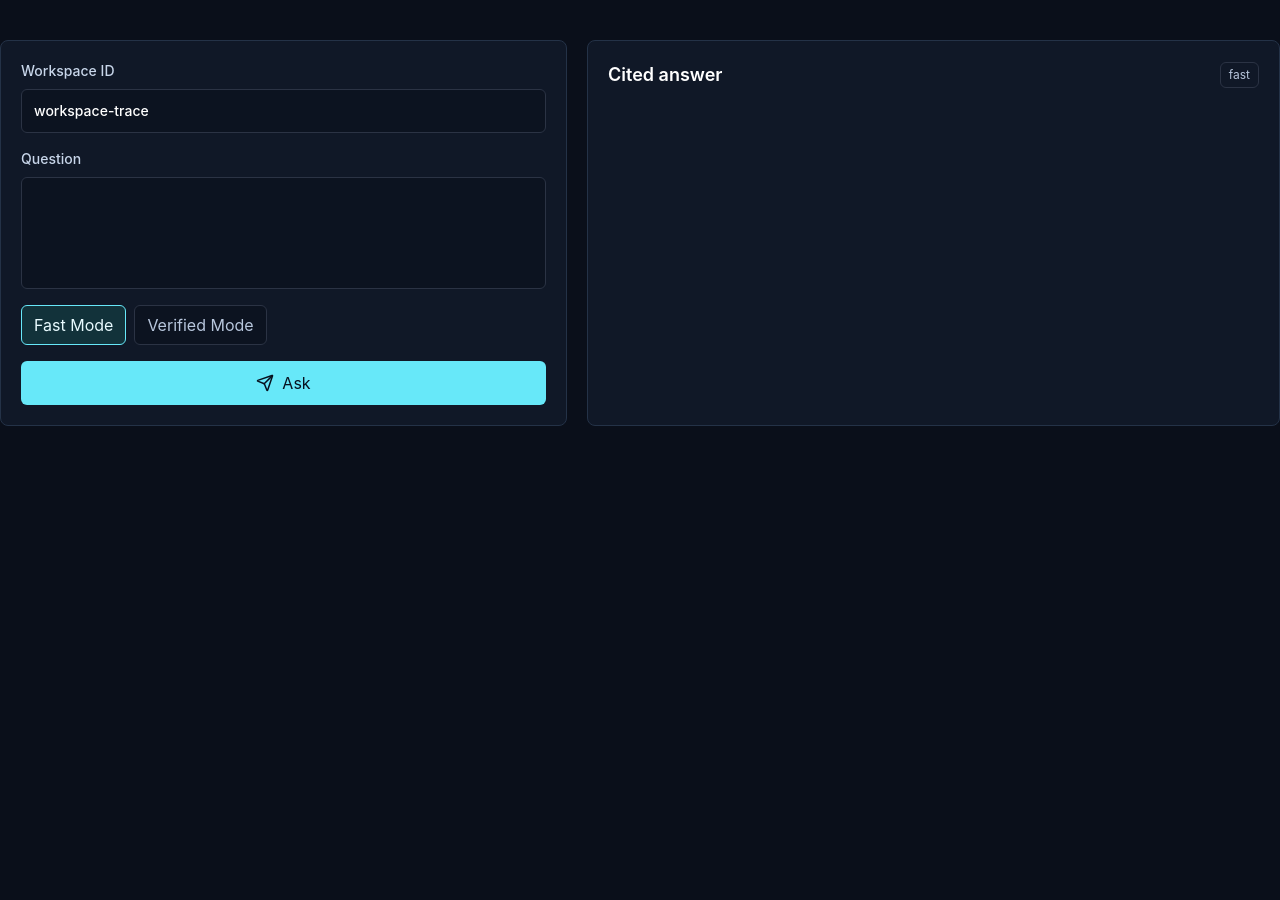
Test: renders a retrieval trace from the final streamed answer
Type "Show trace?" into the text box labelled "Question". click: (284, 233)
box: [21, 177, 546, 289]
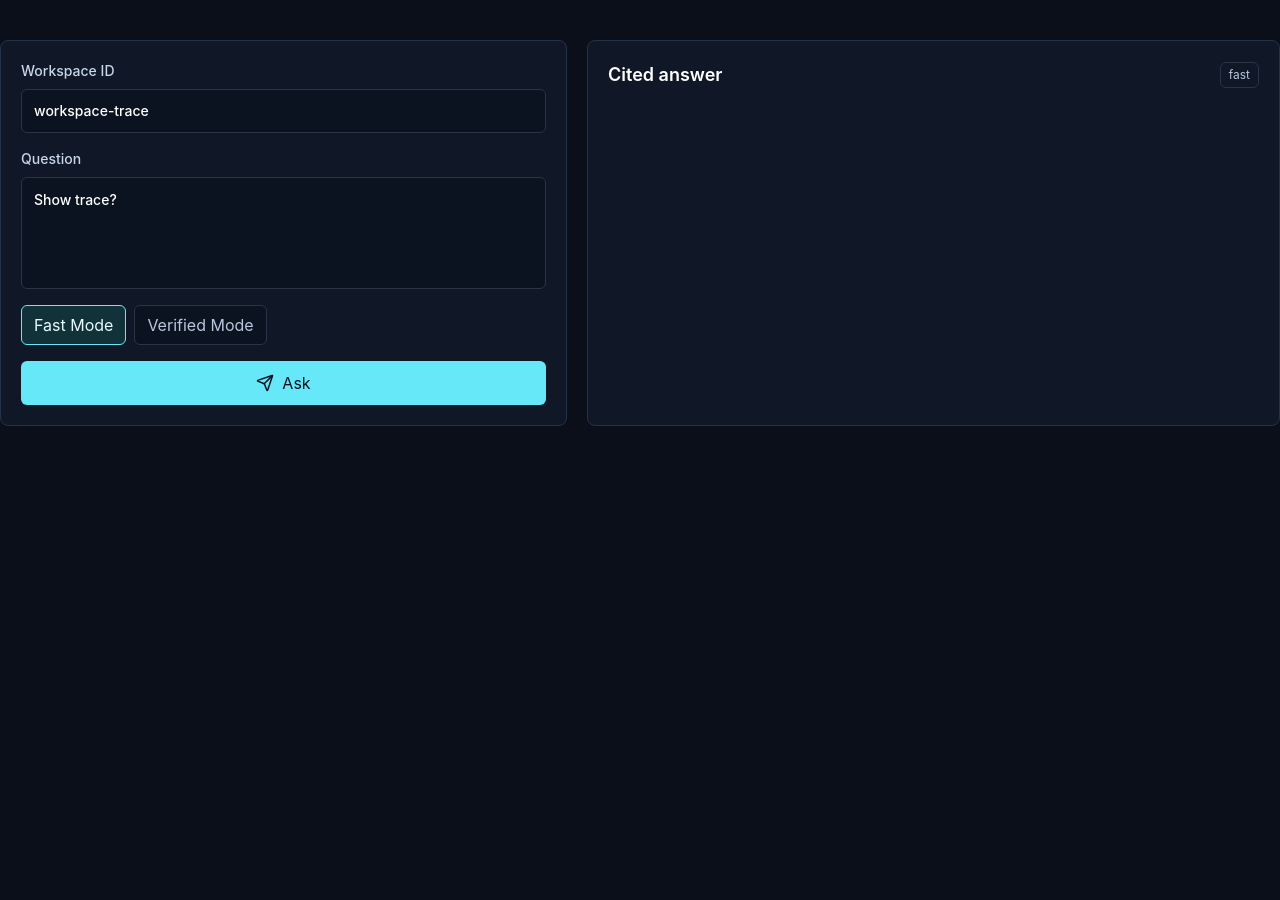
Click the button "Verified Mode". click: (200, 325)
box: [134, 305, 267, 345]
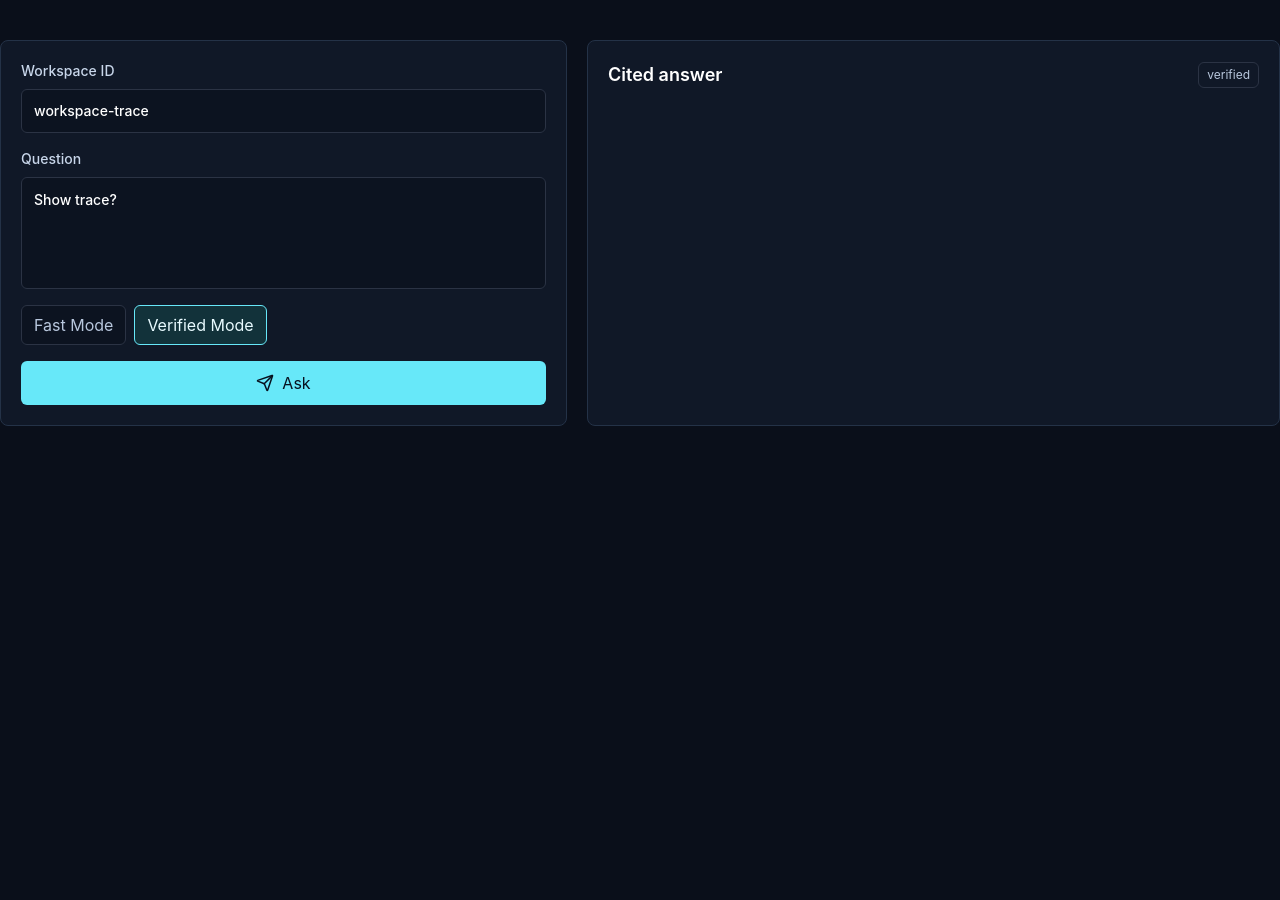
Click the button "Ask". click: (284, 383)
box: [21, 361, 546, 405]
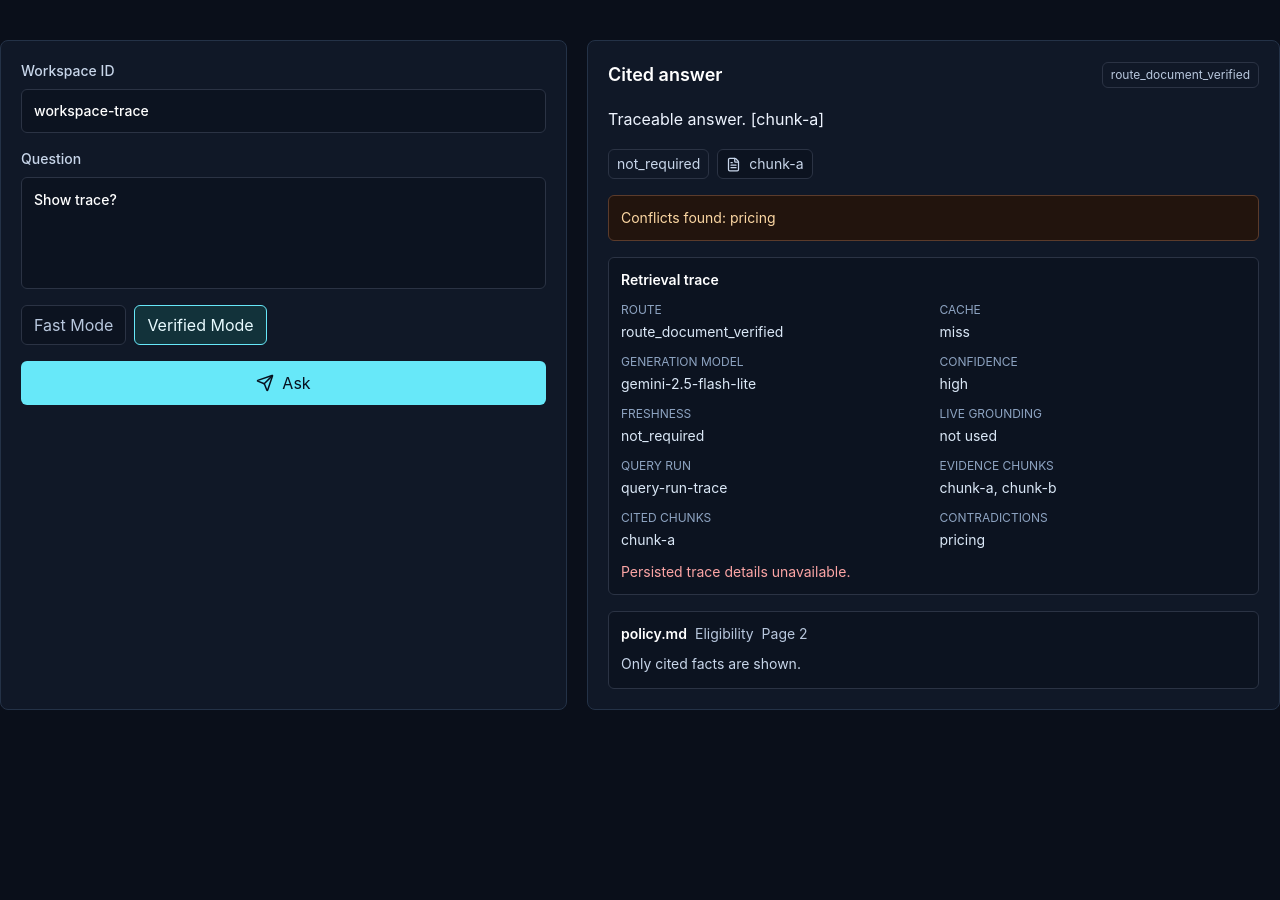
Now the element "Retrieval trace" is shown, box [608, 257, 1259, 595]
Now the text "route_document_verified" next to "miss" is shown, box [621, 323, 783, 340]
Now the text "miss" is shown, box [940, 323, 970, 340]
